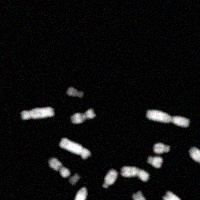chromosome: (144, 109, 189, 126), (60, 138, 90, 158), (120, 167, 148, 183), (48, 157, 69, 178), (21, 106, 54, 119), (71, 109, 94, 123), (102, 169, 117, 188), (132, 191, 159, 200), (163, 191, 190, 200), (189, 146, 200, 167), (147, 155, 163, 168), (66, 87, 84, 98), (74, 186, 87, 200), (153, 143, 170, 153), (69, 174, 78, 186)
